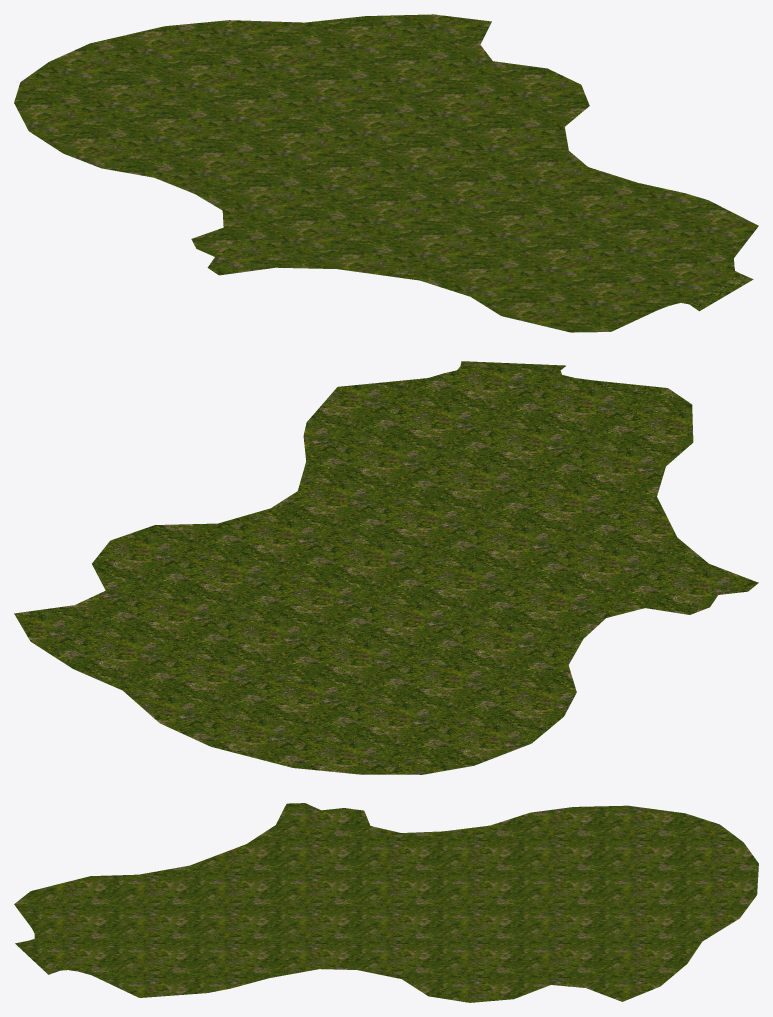
File: OVERHILL_A_01_EXIT_GROUND.fbx
3 views of the same model, one above another, from view 1: azimuth 30°, elevation 25°; view 2: azimuth 150°, elevation 25°; view 3: azimuth 270°, elevation 25° (orthographic). The views are drawn at different scales.
Visible parts, largest first — view 1: OVERHILL_A_01_EXIT_GROUND; view 2: OVERHILL_A_01_EXIT_GROUND; view 3: OVERHILL_A_01_EXIT_GROUND.
Part boxes in pixels (x1=…): OVERHILL_A_01_EXIT_GROUND: x1=14, y1=14, x2=758, y2=332; OVERHILL_A_01_EXIT_GROUND: x1=14, y1=361, x2=758, y2=774; OVERHILL_A_01_EXIT_GROUND: x1=14, y1=803, x2=758, y2=1002.
Size of the model in its own units: 116721 by 616 by 183938.
1 material, 1 textured.
